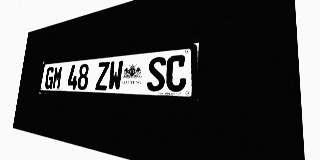4: (67, 64, 79, 90)
8: (77, 63, 90, 90)
C: (165, 54, 187, 92)
G: (44, 67, 55, 89)
M: (52, 66, 63, 89)
S: (147, 56, 166, 91)
W: (108, 60, 123, 91)
Z: (95, 61, 110, 90)
